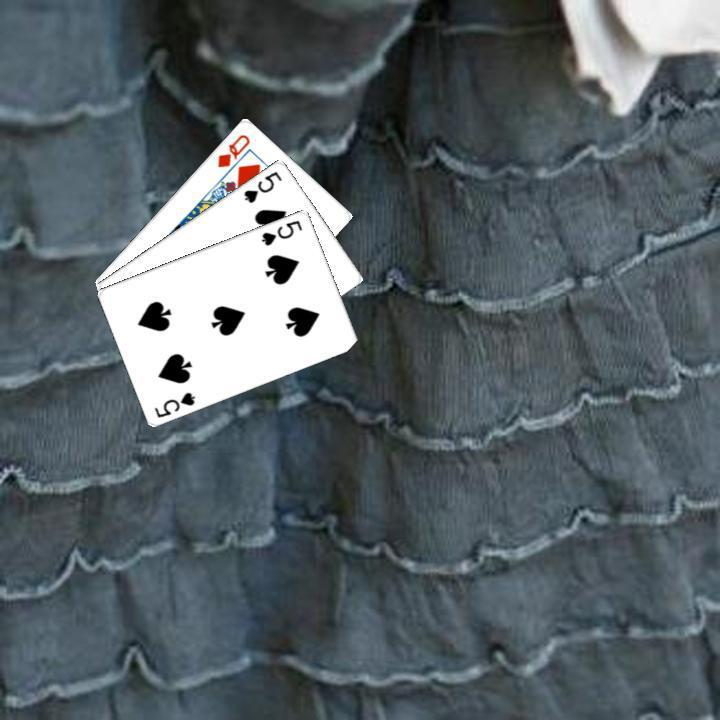5: (239, 166, 284, 205), (257, 215, 304, 247), (150, 387, 197, 419)
Q: (213, 129, 252, 169)
